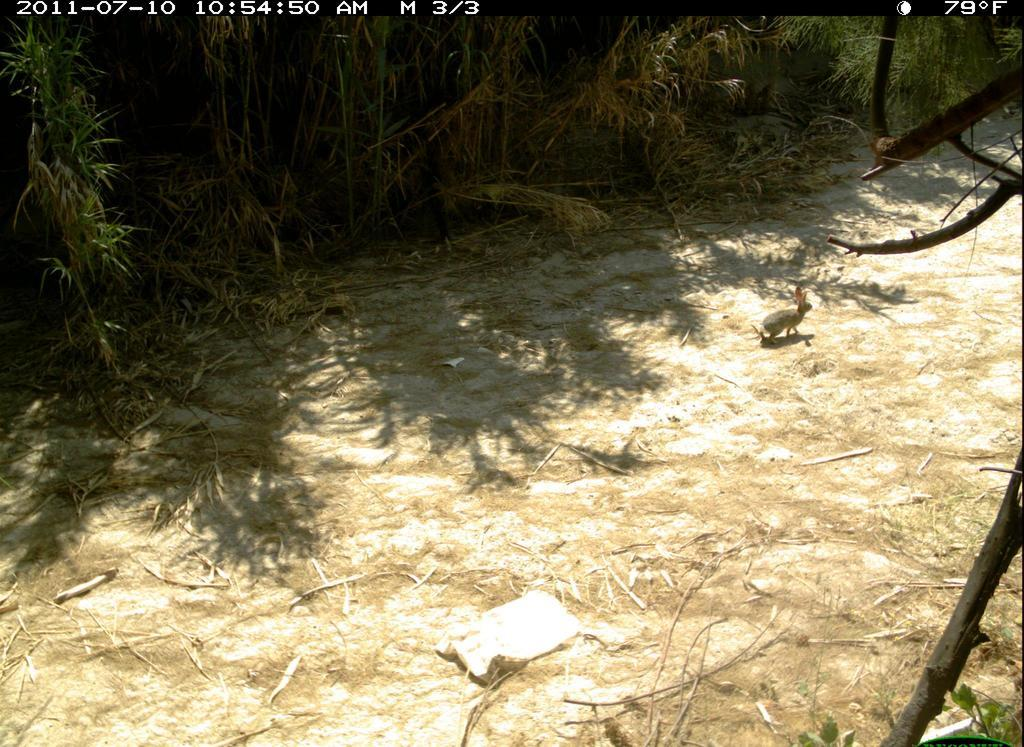rabbit: (748, 275, 824, 353)
